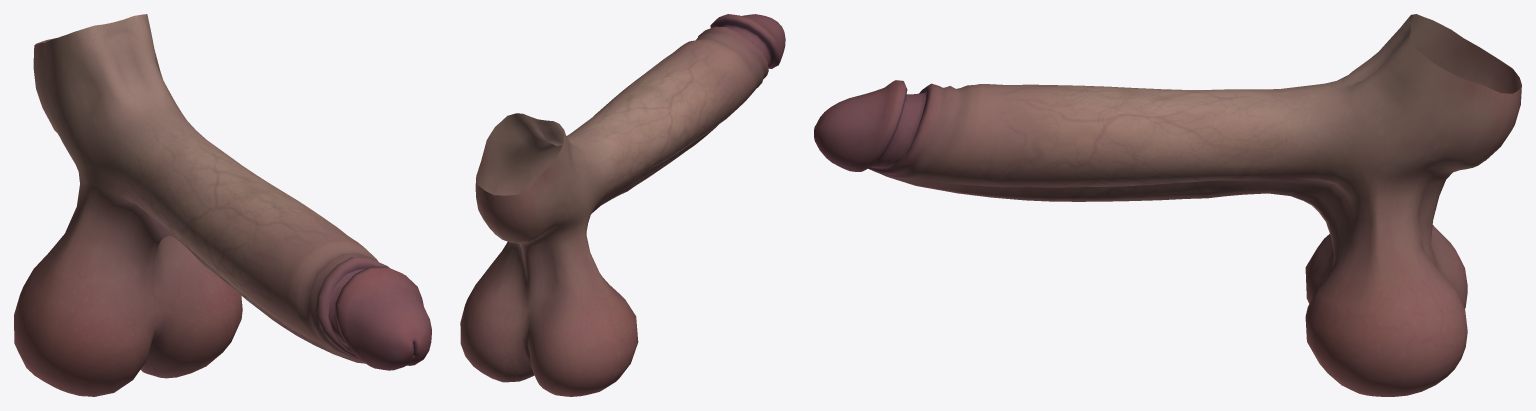
File: penis.glb
3 renders of one model, left to right at view 1: azimuth 30°, elevation 25°; view 2: azimuth 150°, elevation 25°; view 3: azimuth 270°, elevation 25°, orthographic. The views are drawn at different scales.
Visible parts, largest first — view 1: mesh_1; view 2: mesh_1; view 3: mesh_1.
Boxes of the visible parts, <box> form: mesh_1: <box>14,14,431,396</box>; mesh_1: <box>460,14,785,396</box>; mesh_1: <box>814,14,1521,396</box>.
Size of the model in its own units: 0.659 by 1.08 by 2.
Materials: 1 (1 with a texture image).
